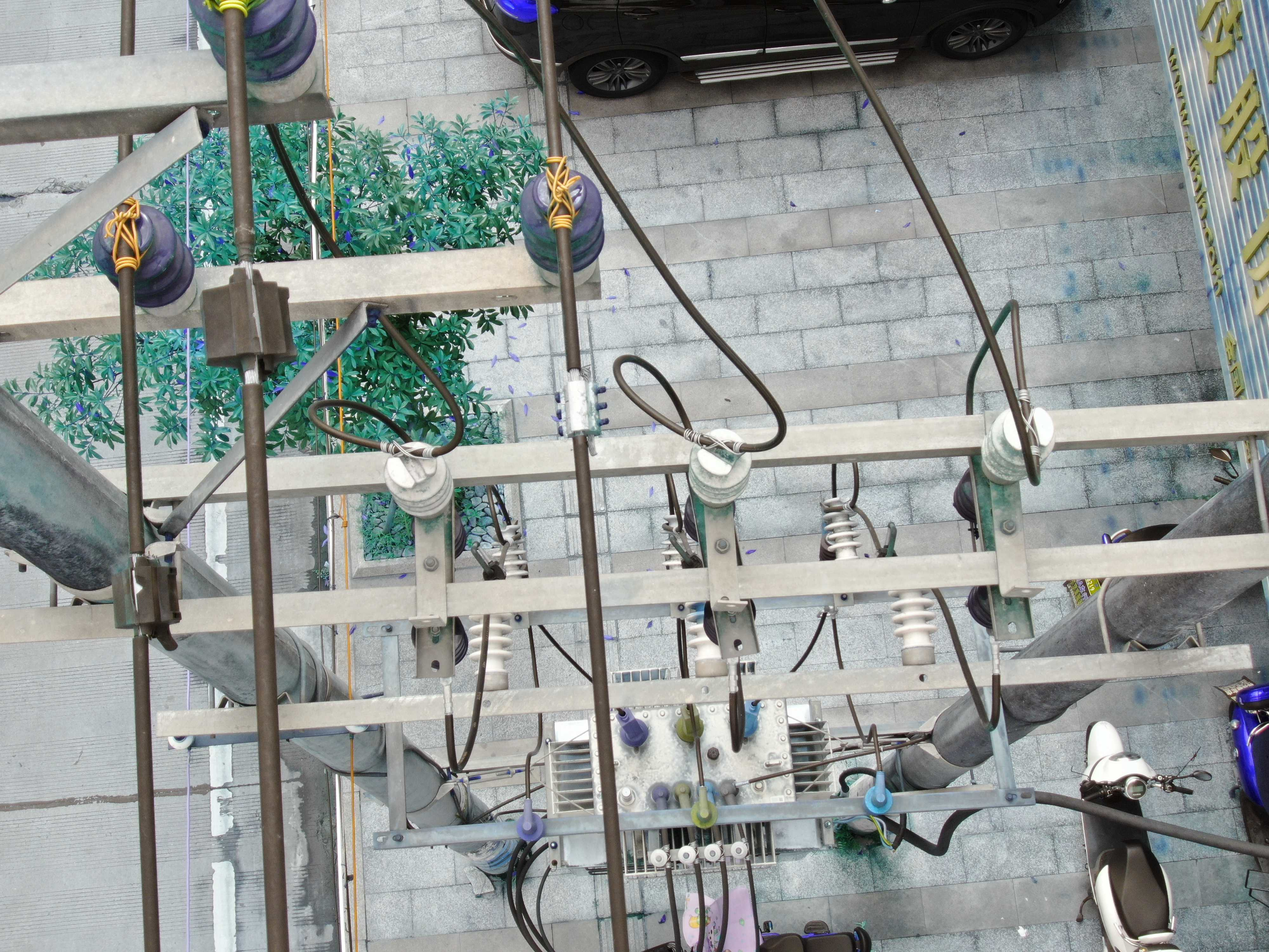severe_soiling_no_discharge_whole: (187, 1, 323, 104), (91, 196, 203, 320), (515, 162, 611, 290), (979, 401, 1059, 490), (381, 438, 459, 523), (685, 425, 755, 510), (684, 599, 729, 677), (821, 493, 866, 560)
